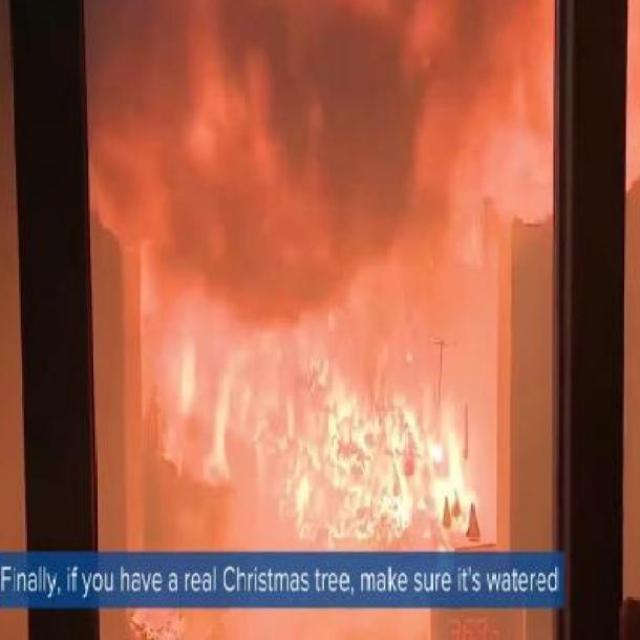smoke: (154, 308, 482, 550)
